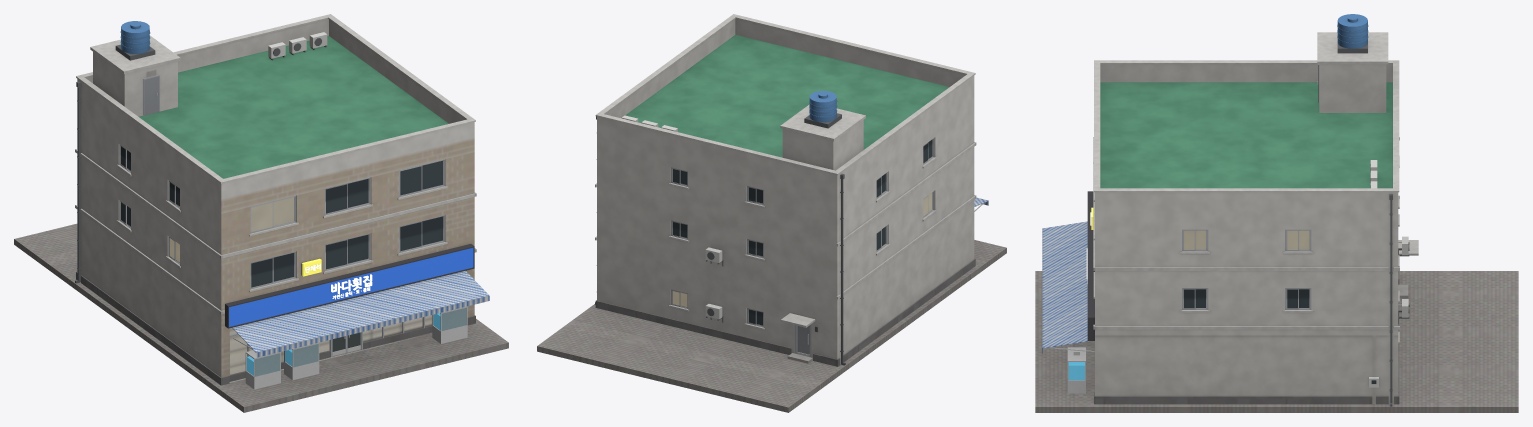
File: IlsanHoetjip01_LOD1.fbx
The picture shows the model from 3 angles, left to right: view 1: azimuth 30°, elevation 25°; view 2: azimuth 150°, elevation 25°; view 3: azimuth 270°, elevation 25°; orthographic projection. The views are drawn at different scales.
Visible parts, largest first — view 1: IlsanHoetjip01_LOD1; view 2: IlsanHoetjip01_LOD1; view 3: IlsanHoetjip01_LOD1.
Boxes of the visible parts, left/top/right/bottom form: IlsanHoetjip01_LOD1: left=14, top=14, right=508, bottom=412; IlsanHoetjip01_LOD1: left=537, top=14, right=1006, bottom=412; IlsanHoetjip01_LOD1: left=1035, top=14, right=1518, bottom=412.
Bounding box in the file's own units: 15.9 × 15.35 × 23.9.
Materials: 1 (1 with a texture image).
